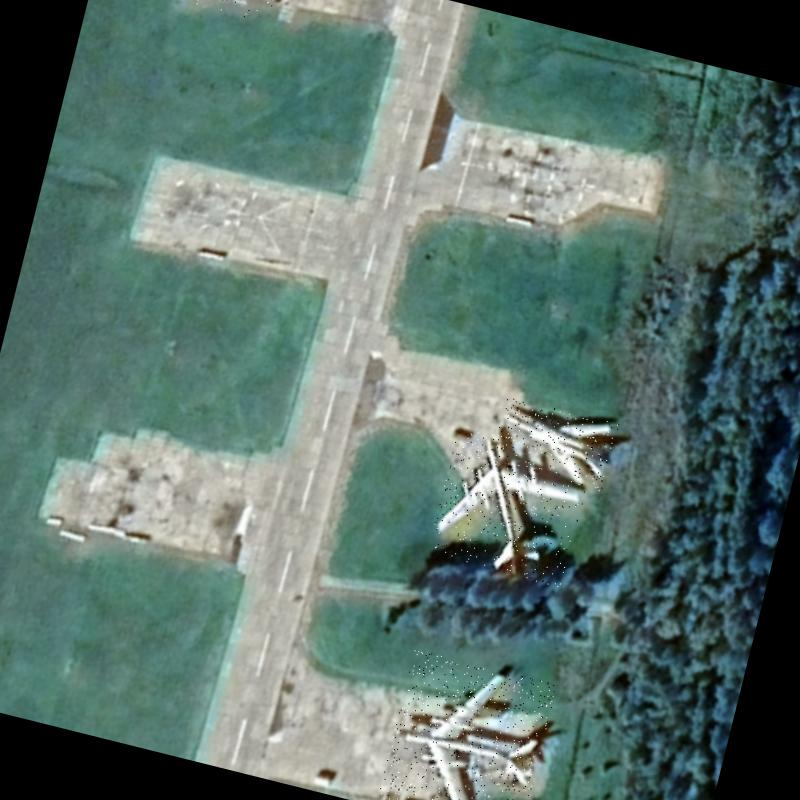A12: (488, 395, 618, 491), (162, 0, 284, 23)
A17: (375, 648, 557, 800), (426, 427, 594, 588)
